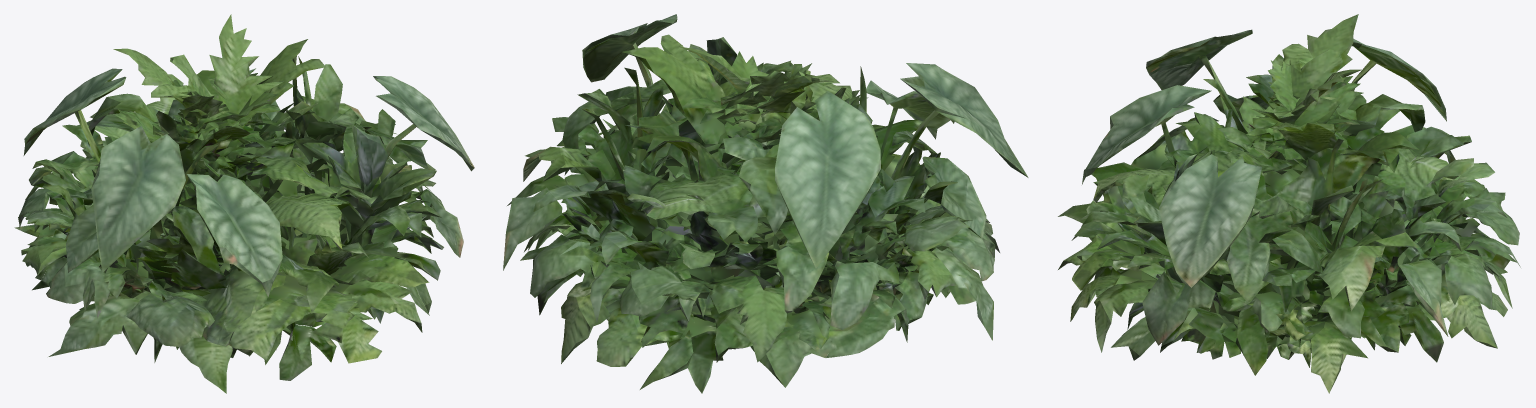
The model's file is 4-understory.glb.
3 views of the same model, side by side, from view 1: azimuth 30°, elevation 25°; view 2: azimuth 150°, elevation 25°; view 3: azimuth 270°, elevation 25° (orthographic). The views are drawn at different scales.
Visible parts, largest first — view 1: geometry_0; view 2: geometry_0; view 3: geometry_0.
Boxes of the visible parts, <box> form: geometry_0: <box>14,14,474,393</box>; geometry_0: <box>503,14,1028,393</box>; geometry_0: <box>1058,14,1520,393</box>.
Bounding box in the file's own units: 0.65 × 0.3974 × 0.6392.
Materials: 1 (1 with a texture image).
